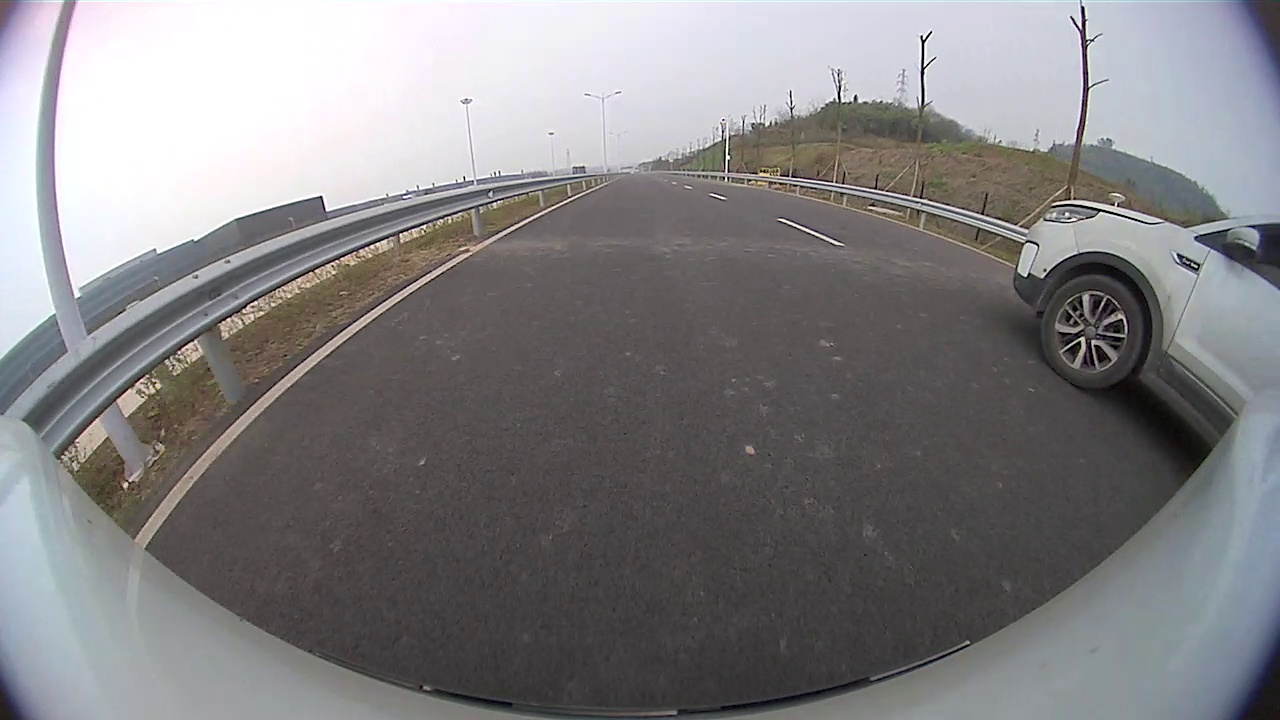car: (1013, 200, 1279, 436)
front: (1041, 273, 1147, 391)
